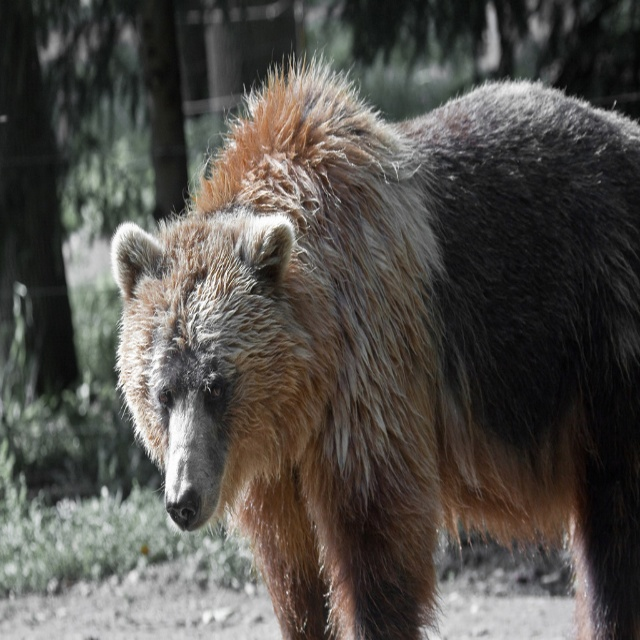Brown bear: (109, 42, 640, 640)
